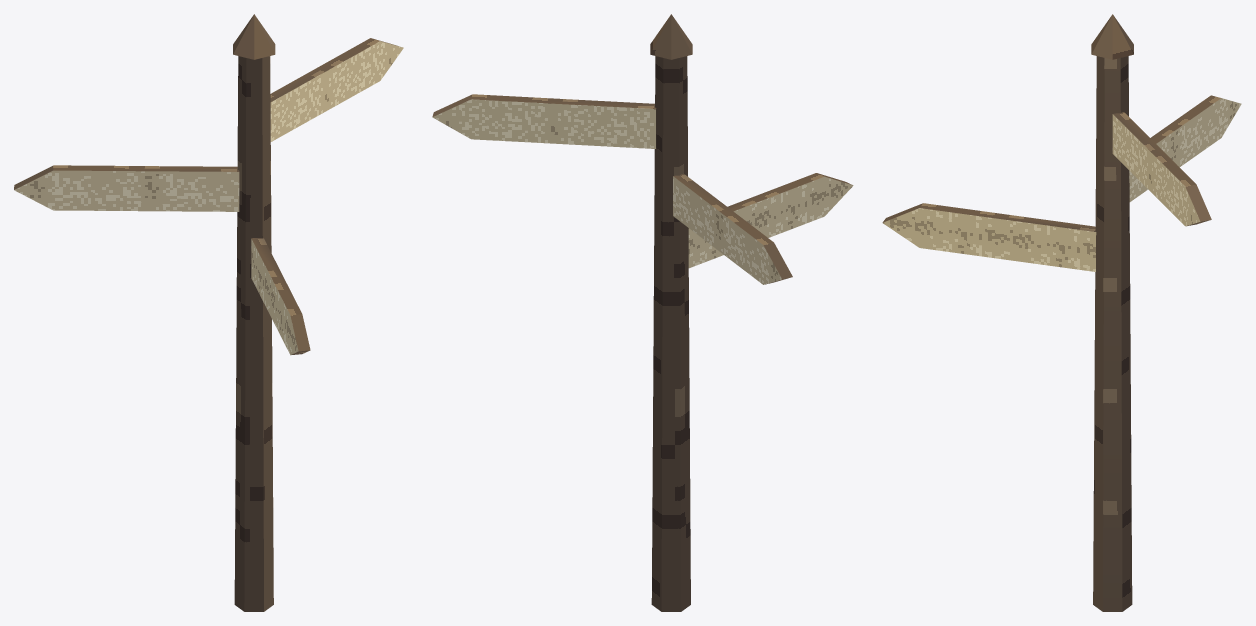
File: mprop.signpost.glb
The picture shows the model from 3 angles, left to right: view 1: azimuth 30°, elevation 25°; view 2: azimuth 150°, elevation 25°; view 3: azimuth 270°, elevation 25°; orthographic projection.
Visible parts, largest first — view 1: kit_post, kit_boards; view 2: kit_post, kit_boards; view 3: kit_post, kit_boards.
Part boxes in pixels (x1=…): kit_post: x1=233, y1=14, x2=275, y2=611; kit_boards: x1=14, y1=38, x2=403, y2=355; kit_post: x1=650, y1=14, x2=692, y2=611; kit_boards: x1=432, y1=94, x2=853, y2=284; kit_post: x1=1091, y1=14, x2=1133, y2=611; kit_boards: x1=882, y1=95, x2=1241, y2=271.
Size of the model in its own units: 1.77 by 2.66 by 1.47.
Materials: 2 (2 with a texture image).
